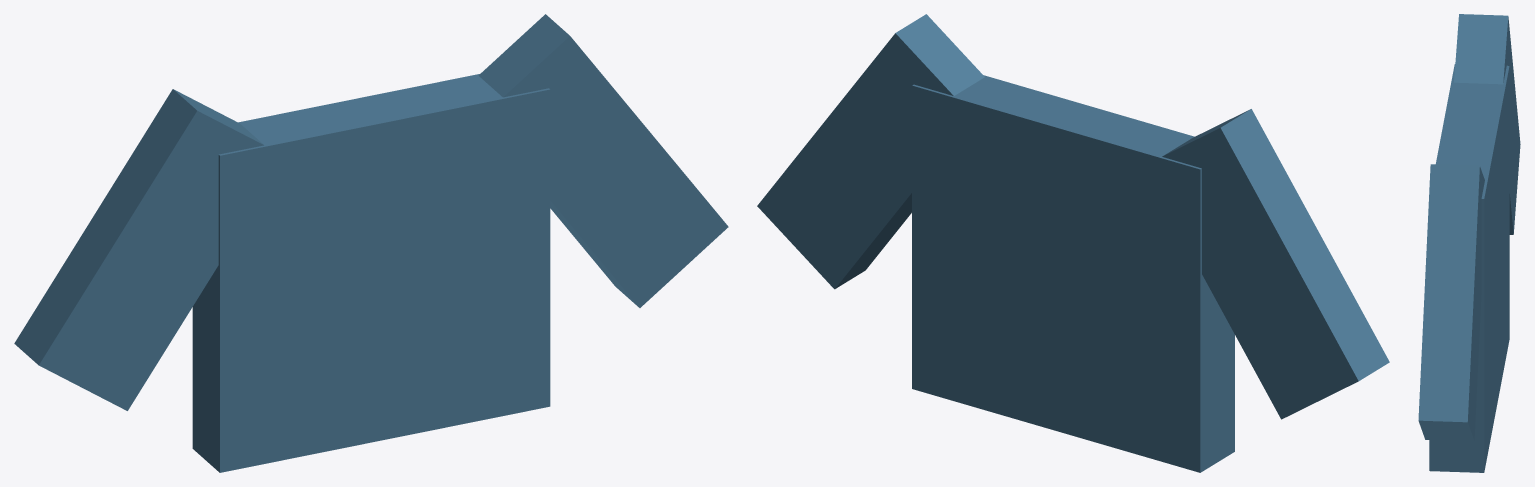
Rendered from stripe-005.v1.glb.
3 renders of one model, left to right at view 1: azimuth 30°, elevation 25°; view 2: azimuth 150°, elevation 25°; view 3: azimuth 270°, elevation 25°, orthographic. The views are drawn at different scales.
Parts seen in each view (by area): view 1: Garment; view 2: Garment; view 3: Garment.
Part boxes in pixels (x1=…): Garment: x1=14, y1=14, x2=728, y2=472; Garment: x1=757, y1=14, x2=1389, y2=472; Garment: x1=1418, y1=14, x2=1520, y2=472.
Bounding box in the file's own units: 2.41 × 1.27 × 0.3713.
